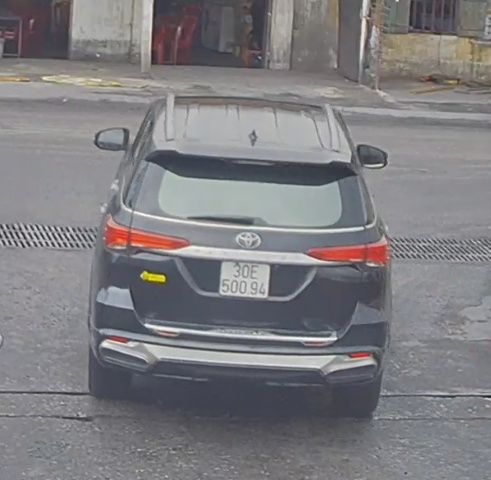vehicle plate: (210, 256, 280, 299)
